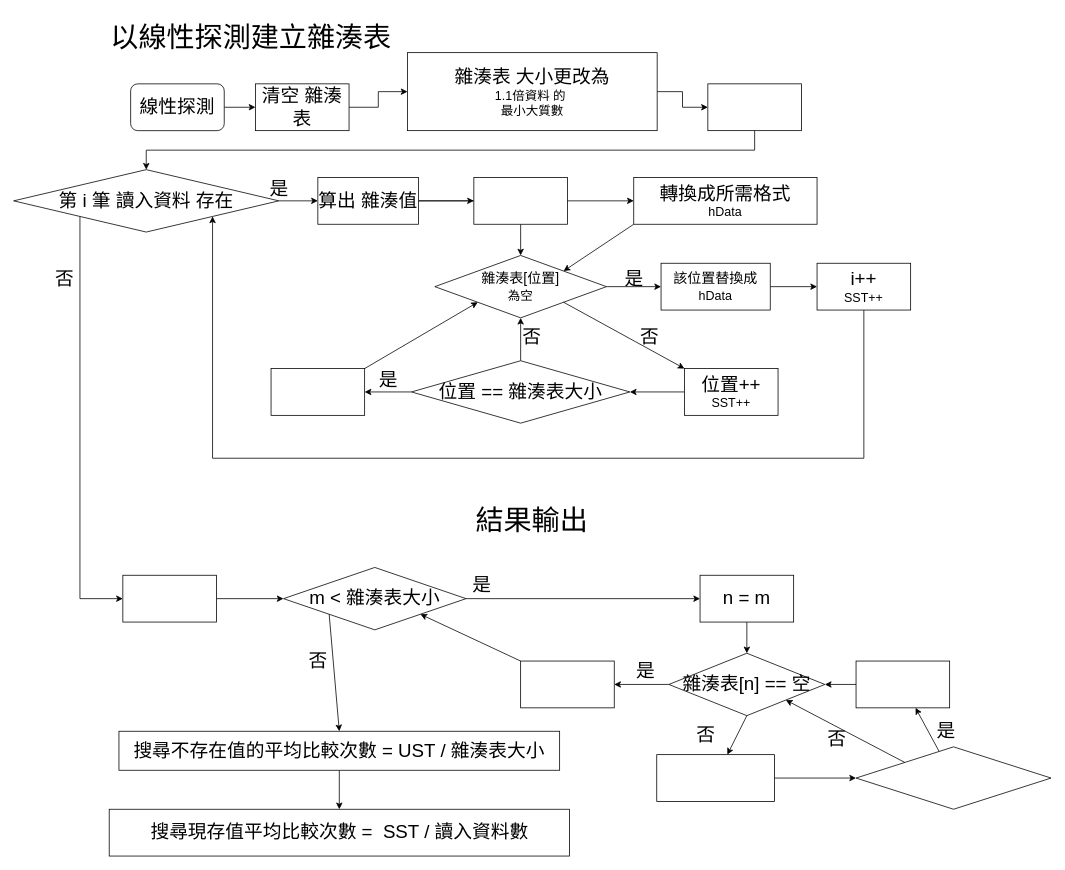
The diagram is 1065 pixels wide and 870 high, and some of its shapes have lost their labels. The box of each missing label's shape, as (x1, y1, x2, y2) in pixels:
i = 0 SST = 0: (707, 83, 801, 131)
m++: (520, 660, 614, 708)
n = 0: (855, 660, 950, 708)
n == 雜湊值大小: (855, 746, 1051, 809)
n++ UST++: (656, 754, 775, 801)
UST = 0 m = 0: (122, 574, 216, 622)
位置 = 0: (270, 368, 365, 415)
位置 = 雜湊值: (473, 177, 567, 224)
